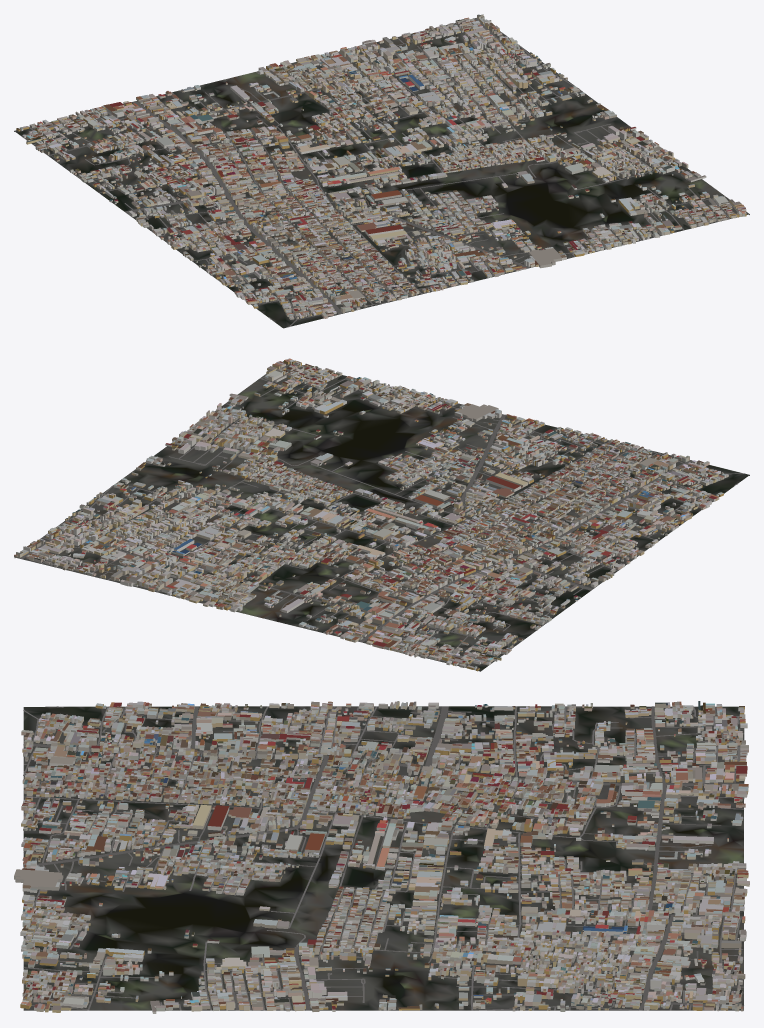
3 views of the same model, one above another, from view 1: azimuth 30°, elevation 25°; view 2: azimuth 150°, elevation 25°; view 3: azimuth 270°, elevation 25° (orthographic). The views are drawn at different scales.
Parts seen in each view (by area): view 1: buildings, ground, roads; view 2: buildings, ground, roads; view 3: buildings, ground, roads.
Boxes of the visible parts, x1,y1,x2,y2 form: buildings: (16, 14, 746, 319); ground: (14, 19, 749, 328); roads: (24, 18, 738, 327); buildings: (14, 358, 728, 671); ground: (14, 361, 749, 671); roads: (19, 364, 745, 667); buildings: (14, 701, 749, 1013); ground: (23, 706, 744, 1010); roads: (23, 706, 744, 1010).
Bounding box in the file's own units: 1426 × 24.31 × 1431.
